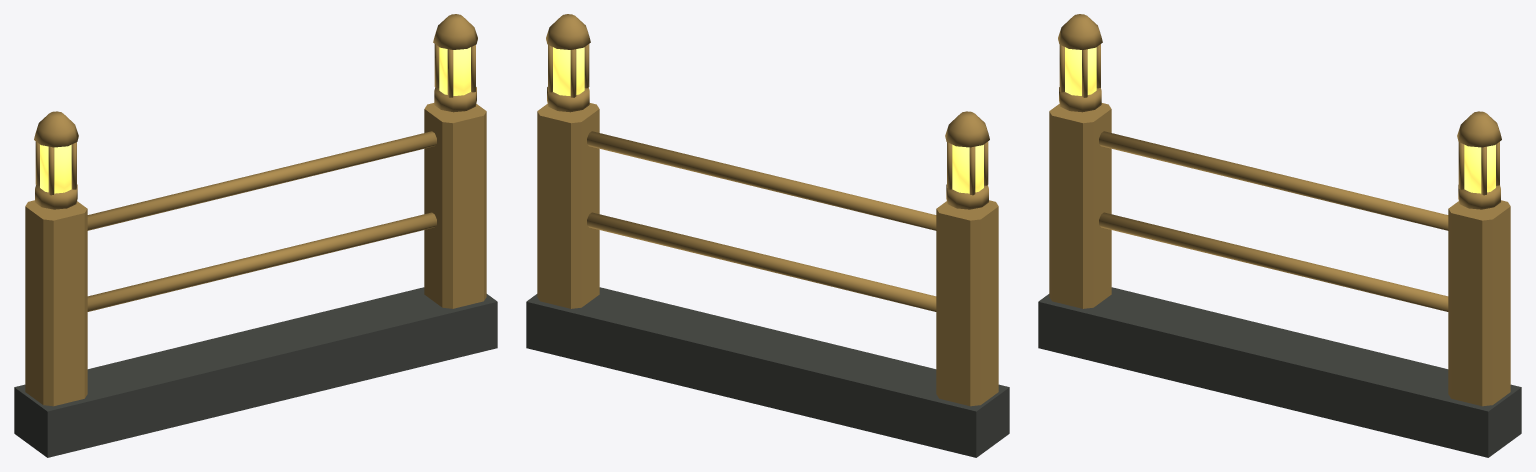
File: b3_rail.glb
3 views of the same model, side by side, from view 1: azimuth 30°, elevation 25°; view 2: azimuth 150°, elevation 25°; view 3: azimuth 330°, elevation 25° (orthographic).
Parts seen in each view (by area): view 1: b3_rail; view 2: b3_rail; view 3: b3_rail.
Boxes of the visible parts, box(x1,y1,x2,y2) form: b3_rail: box(14, 14, 497, 457); b3_rail: box(526, 14, 1009, 457); b3_rail: box(1038, 14, 1521, 457).
Bounding box in the file's own units: 2.03 × 1.4 × 0.26.
